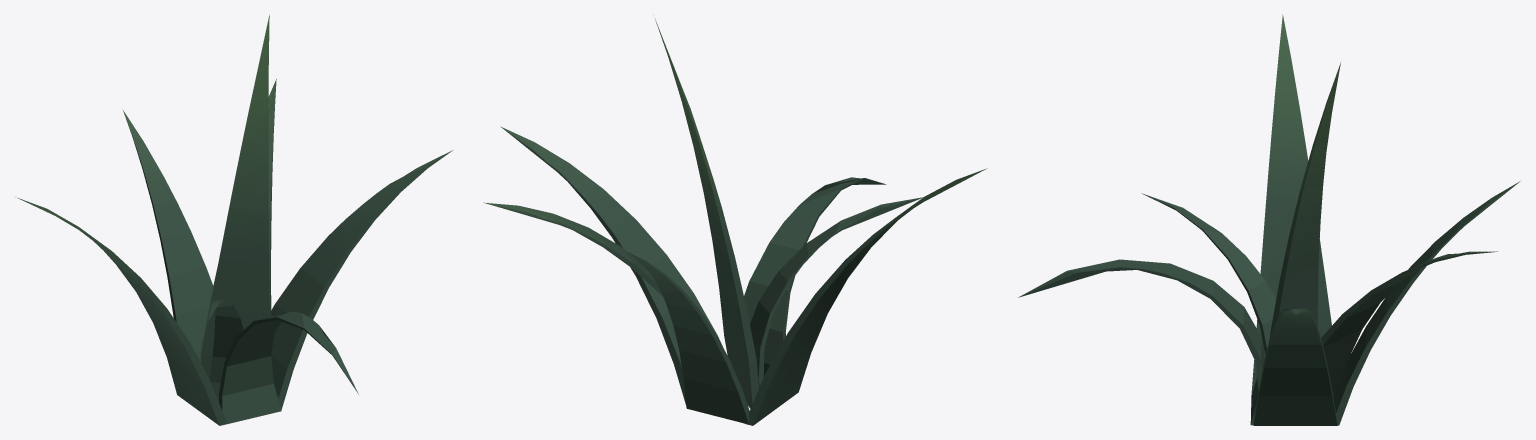
File: grass_2lvl.fbx
The picture shows the model from 3 angles, left to right: view 1: azimuth 30°, elevation 25°; view 2: azimuth 150°, elevation 25°; view 3: azimuth 270°, elevation 25°; orthographic projection. The views are drawn at different scales.
Visible parts, largest first — view 1: grass.014; view 2: grass.014; view 3: grass.014.
Boxes of the visible parts, <box> form: grass.014: <box>15,14,452,425</box>; grass.014: <box>484,19,987,425</box>; grass.014: <box>1018,14,1520,425</box>.
Bounding box in the file's own units: 151 × 116 × 140.
